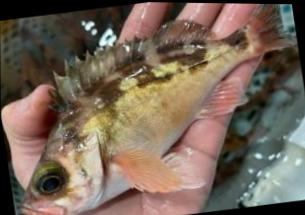fish: (17, 3, 296, 215)
